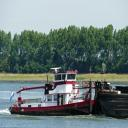tugboat: (9, 68, 112, 120)
